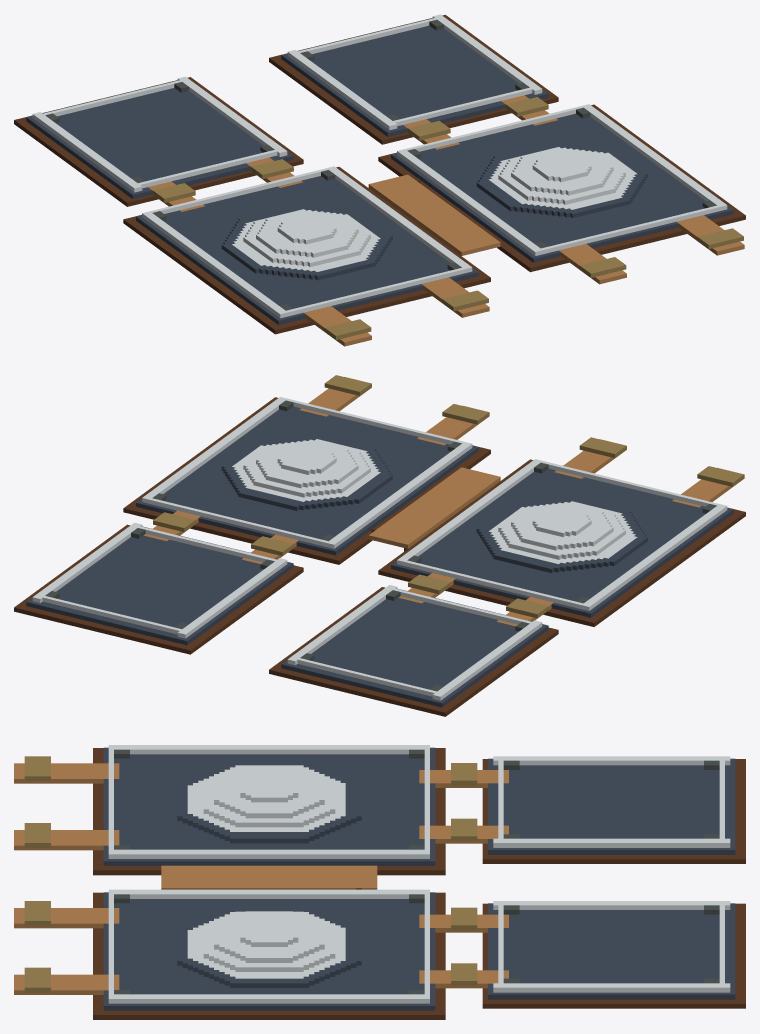
The model's file is hc_mirror_armor.glb.
The picture shows the model from 3 angles, top to bottom: view 1: azimuth 30°, elevation 25°; view 2: azimuth 150°, elevation 25°; view 3: azimuth 270°, elevation 25°; orthographic projection. The views are drawn at different scales.
Parts seen in each view (by area): view 1: hc_mirror_armor:compound; view 2: hc_mirror_armor:compound; view 3: hc_mirror_armor:compound.
Part boxes in pixels (x1,y1,x2,y2): hc_mirror_armor:compound: [14, 14, 745, 346]; hc_mirror_armor:compound: [14, 375, 745, 716]; hc_mirror_armor:compound: [14, 745, 745, 1019].
Size of the model in its own units: 0.48 by 0.024 by 0.556.
